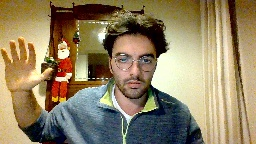Mano_aperta: (0, 34, 53, 91)
